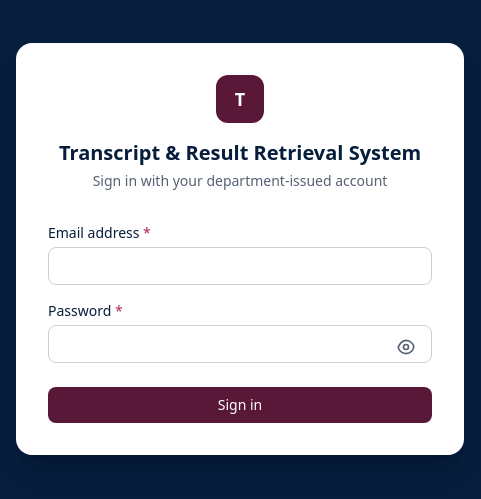
Scenario: LoginPage › shows the server error message when login fails
The image size is (481, 499).
Step 1. Type "admin@university.edu" into the field labelled "Email address *" → (240, 266), box [48,247,432,285]
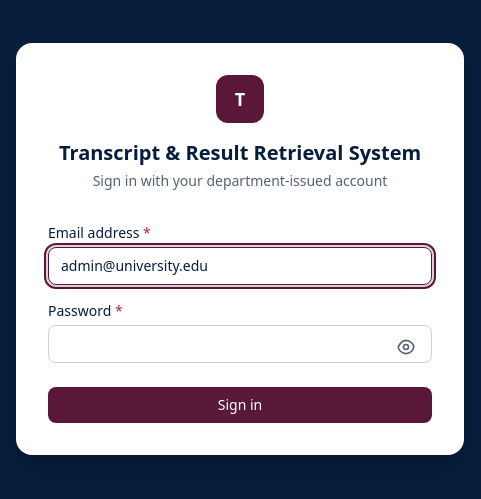
Step 2. Type "wrong-password" into the password field labelled "Password *" → (240, 344), box [48,325,432,363]
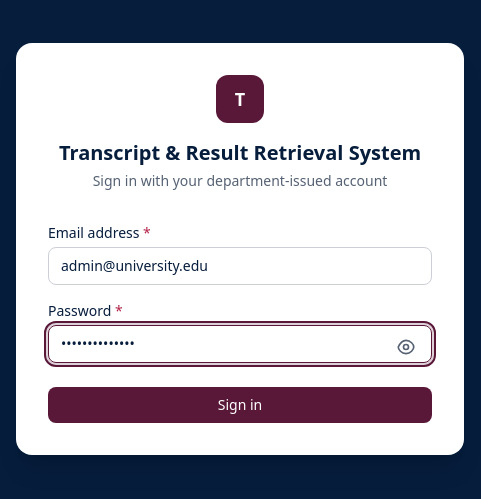
Step 3. Click the button "Sign in" → (240, 405), box [48,387,432,423]
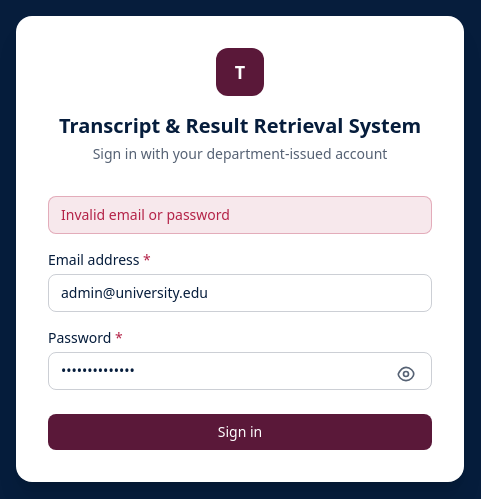
Now the message reads "Invalid email or password", box [61,205,230,224]
